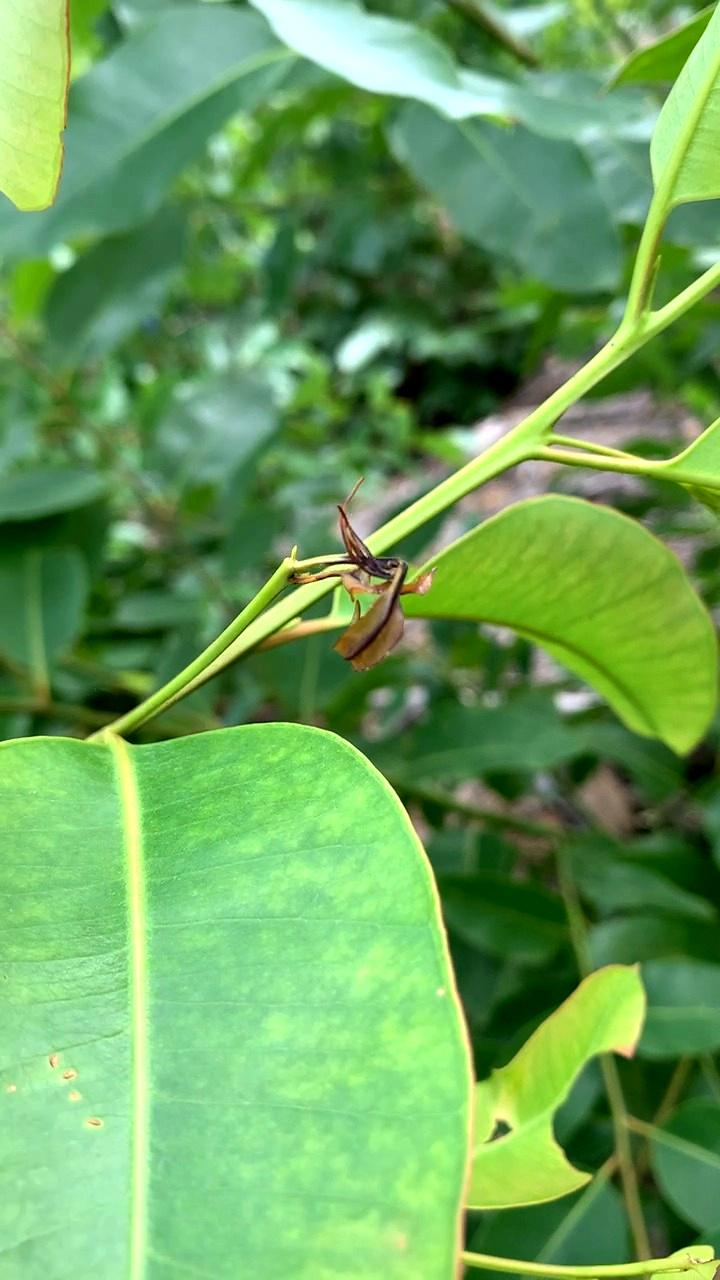Helopeltis-Withered Sprout: (320, 508, 439, 687)
